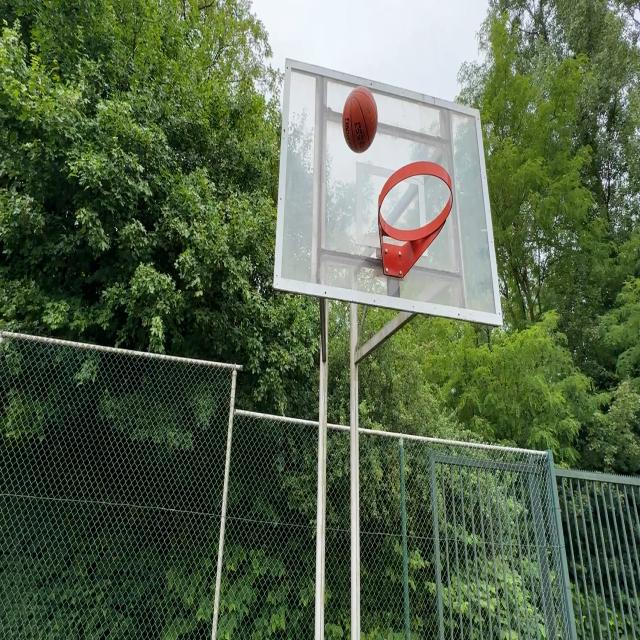Basketball: (343, 87, 379, 153)
